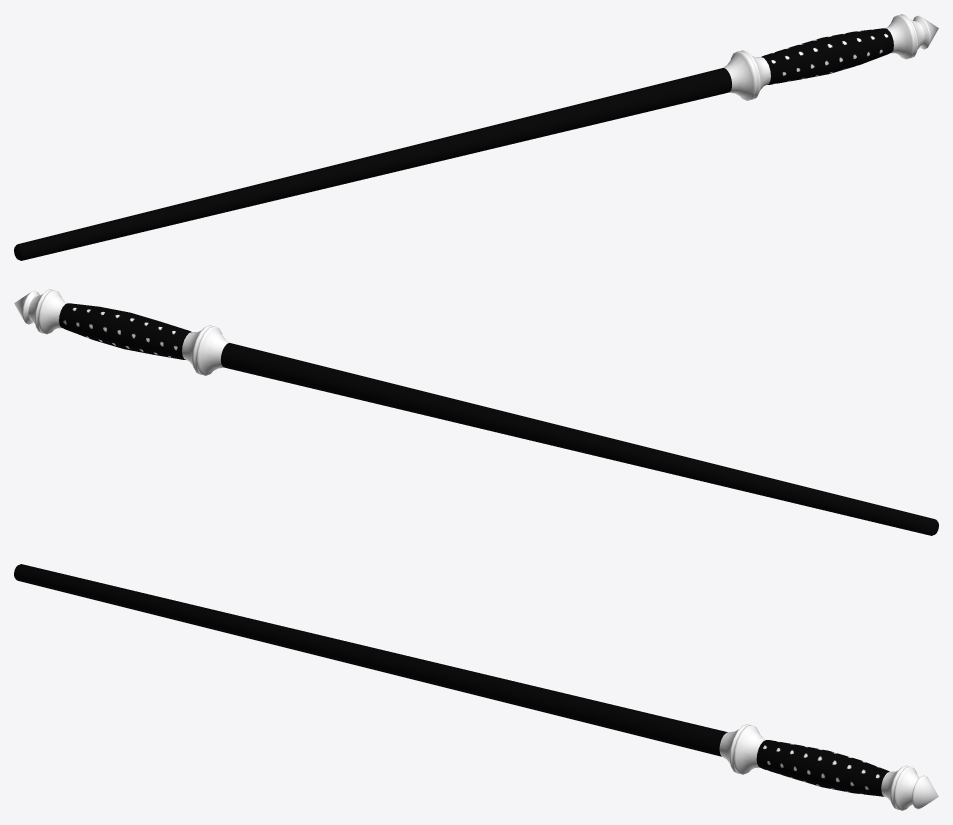
The model's file is Wand5.fbx.
3 views of the same model, one above another, from view 1: azimuth 30°, elevation 25°; view 2: azimuth 150°, elevation 25°; view 3: azimuth 330°, elevation 25° (orthographic).
Parts seen in each view (by area): view 1: Wand5_LOD0; view 2: Wand5_LOD0; view 3: Wand5_LOD0.
Boxes of the visible parts, <box> form: Wand5_LOD0: <box>14,14,938,260</box>; Wand5_LOD0: <box>14,289,938,535</box>; Wand5_LOD0: <box>14,564,938,810</box>.
Size of what is drawn, in the model's own units: 201 by 9.6 by 9.6.
